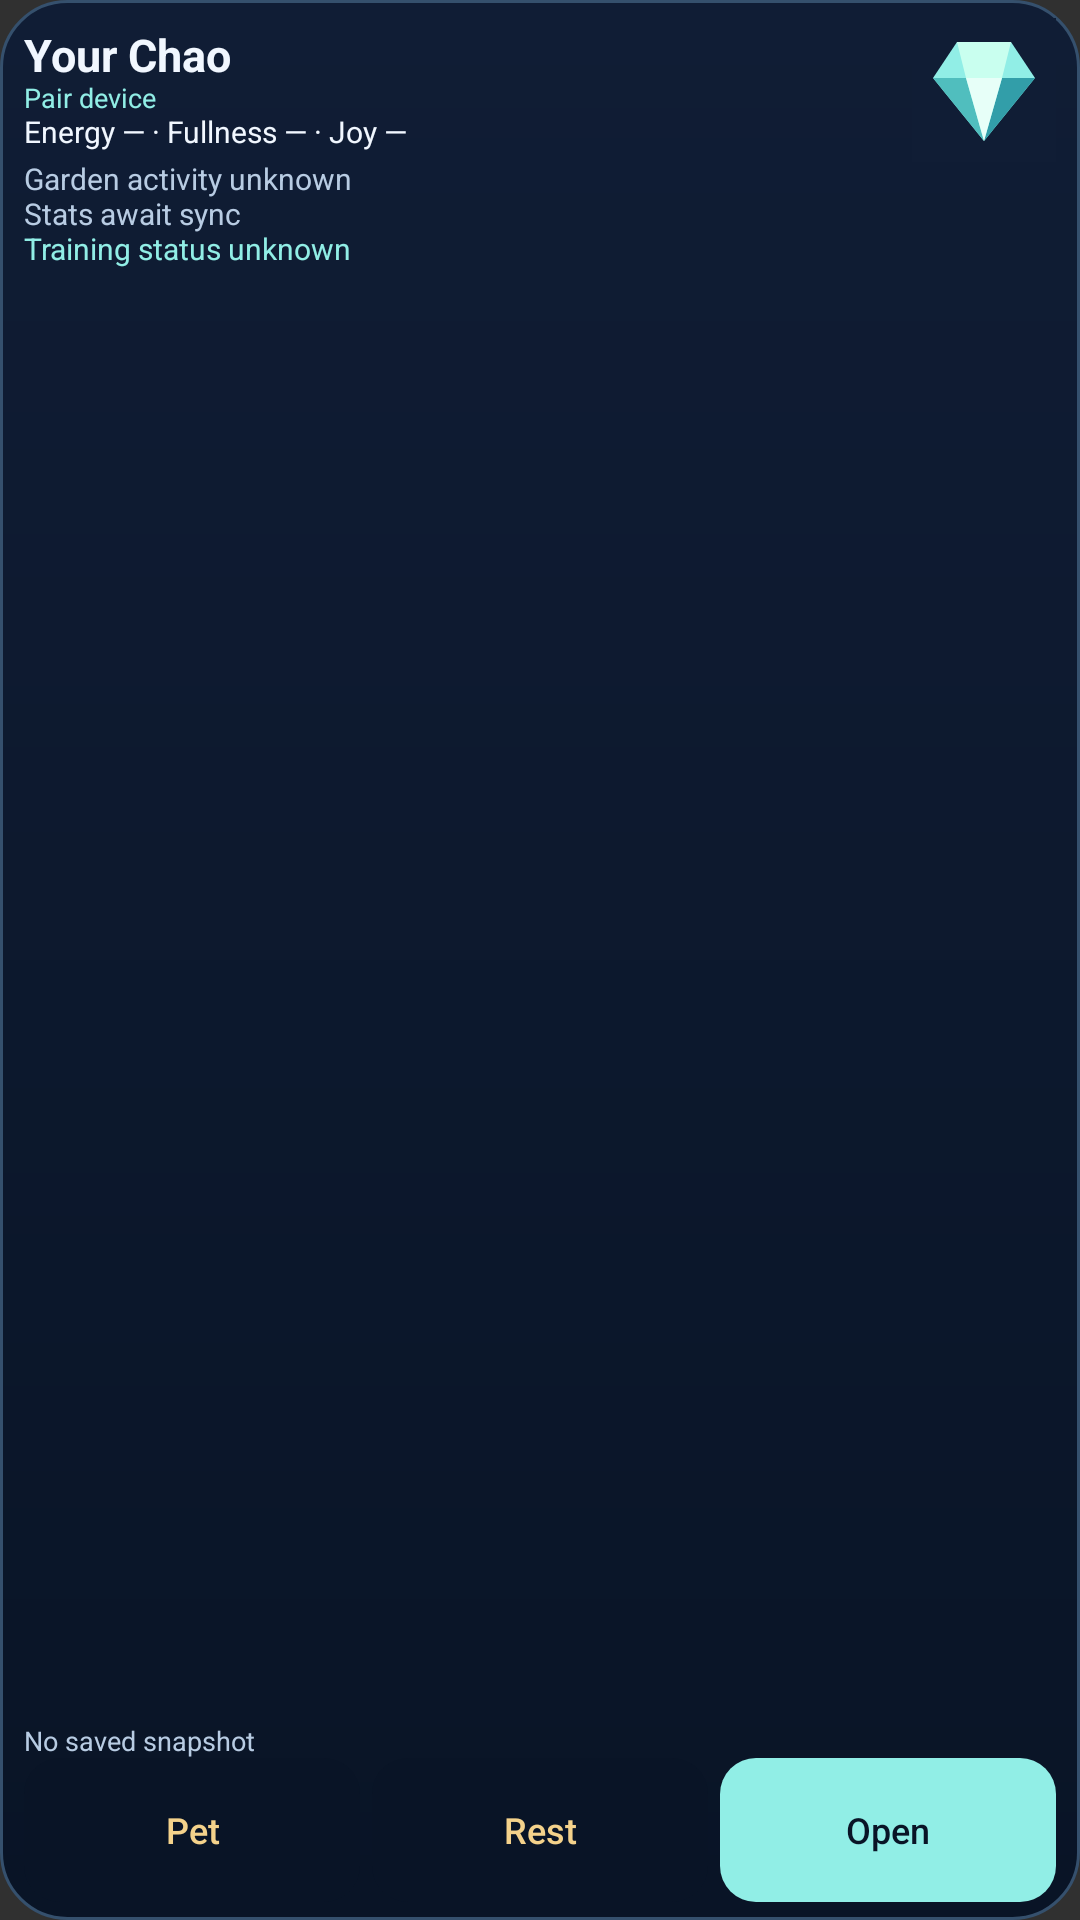

Icons on this 1080px×1920px Android screen, each with the point to tap as (x=x, y=y):
garden gem: (x=984, y=91)
